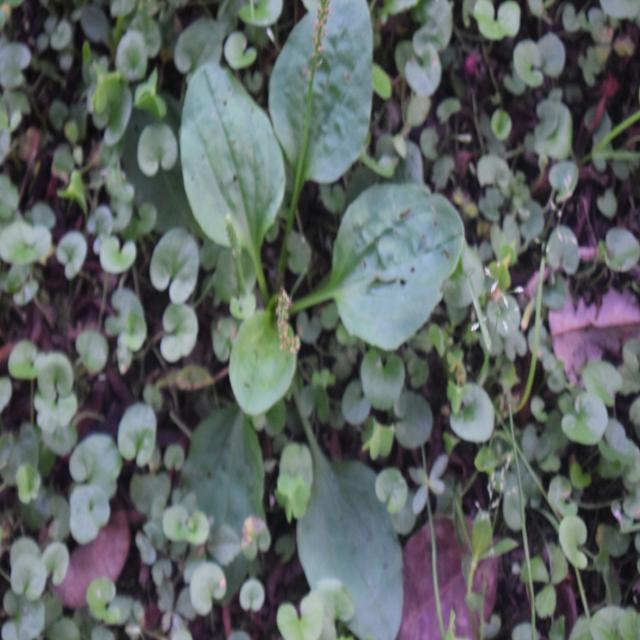plantain: (175, 31, 456, 597)
